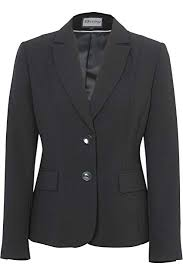F_M_suit jacket: (1, 11, 183, 264)
